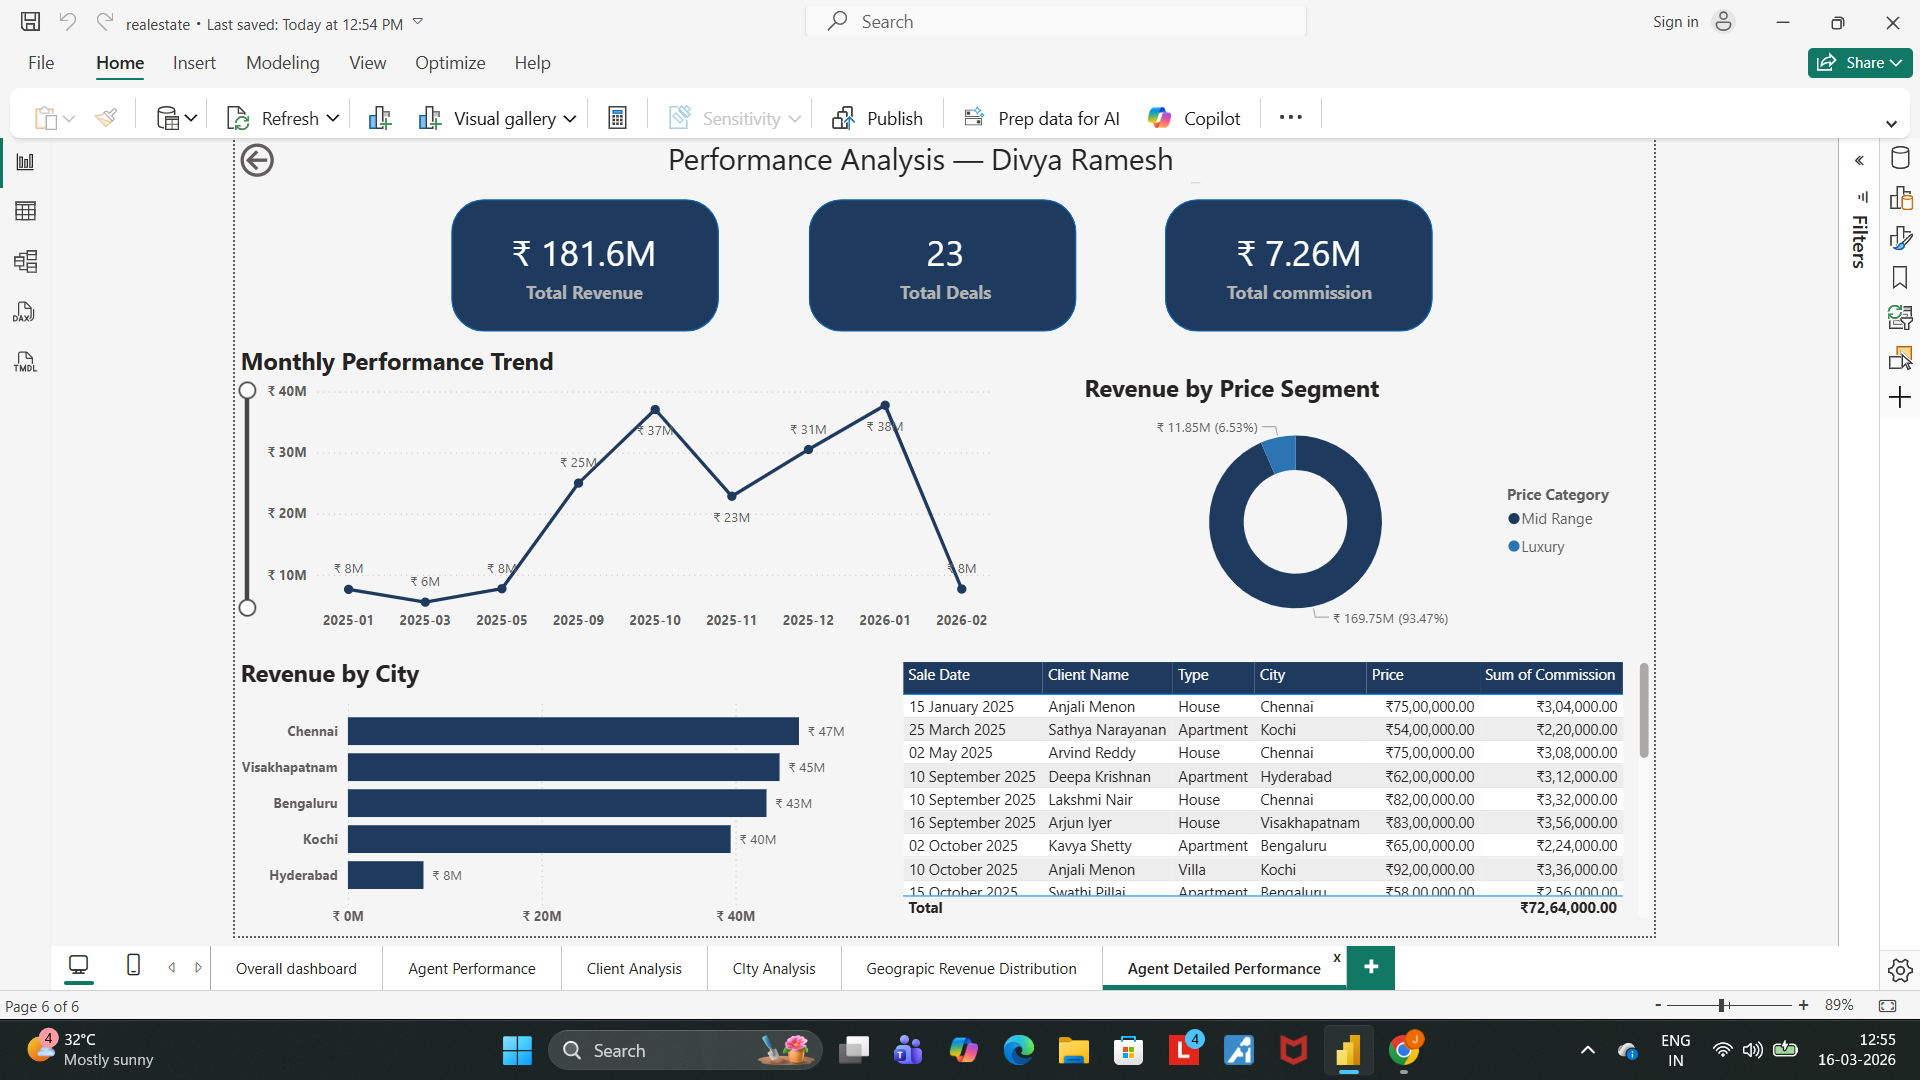

Layout of this report page (visuals, bound fields, positions):
{"tool":"powerbi","page":{"name":"Agent Detailed Performance","canvas":[1280,720],"ordinal":5},"visuals":[{"type":"actionButton","box":[0,0,100,40],"z":0},{"type":"shape","box":[195.3,54.7,241.3,119.4],"z":1000},{"type":"card","fields":{"Values":["measure.Total Deals"]},"box":[542.4,54.7,195.3,89.6],"z":2000},{"type":"shape","box":[516.9,54.7,241.3,119.4],"z":3000},{"type":"shape","box":[838.4,54.7,241.3,119.4],"z":4000},{"type":"card","fields":{"Values":["measure.Total Deals"]},"box":[543.6,69.7,195.3,89.6],"z":5000},{"type":"card","fields":{"Values":["measure.Total Revenue"]},"box":[217.7,69.7,195.3,89.6],"z":6000},{"type":"card","fields":{"Values":["measure.Total commission"]},"box":[862.1,69.7,195.3,89.6],"z":7000},{"type":"lineChart","title":"Monthly Performance Trend","fields":{"Category":["Calendar.YearMonth"],"Y":["measure.Total Revenue"]},"box":[0,186.1,688.2,266.9],"z":8000},{"type":"barChart","title":"Revenue by City","fields":{"Category":["realestate properties.City"],"Y":["measure.Total Revenue"]},"box":[0,467.5,585.8,252.5],"z":9000},{"type":"donutChart","title":"Revenue by Price Segment","fields":{"Category":["realestate transactions.Price Category"],"Y":["measure.Total Revenue"]},"box":[760.3,210.6,499.2,242.4],"z":10000},{"type":"tableEx","fields":{"Values":["realestate transactions.Sale Date","realestate clients.Client Name","realestate properties.Type","realestate properties.City","realestate properties.Price","Sum(realestate transactions.Commission)"]},"box":[595.9,467.5,683.9,240.9],"z":11000},{"type":"textbox","box":[385.6,0,490.1,46],"z":11001}]}

Visuals, with their boxes on the page's 1280x720 design canvas (x1, y1, x2, y2). These are canvas units, not pixel positions in the 1920x1080 screenshot, which may show the page scaled, cropped or inside an application window:
actionButton: crop(0, 0, 100, 40)
shape: crop(195, 55, 437, 174)
card - measure.Total Deals: crop(542, 55, 738, 144)
shape: crop(517, 55, 758, 174)
shape: crop(838, 55, 1080, 174)
card - measure.Total Deals: crop(544, 70, 739, 159)
card - measure.Total Revenue: crop(218, 70, 413, 159)
card - measure.Total commission: crop(862, 70, 1057, 159)
"Monthly Performance Trend" lineChart: crop(0, 186, 688, 453)
"Revenue by City" barChart: crop(0, 468, 586, 720)
"Revenue by Price Segment" donutChart: crop(760, 211, 1260, 453)
tableEx - realestate transactions.Sale Date x realestate clients.Client Name: crop(596, 468, 1280, 708)
textbox: crop(386, 0, 876, 46)
